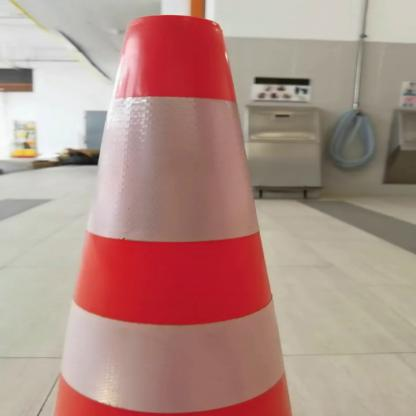cone: (46, 12, 297, 415)
